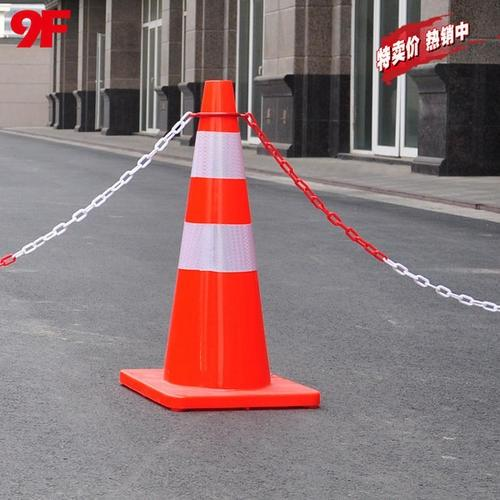cone_barrel: (146, 85, 288, 402)
